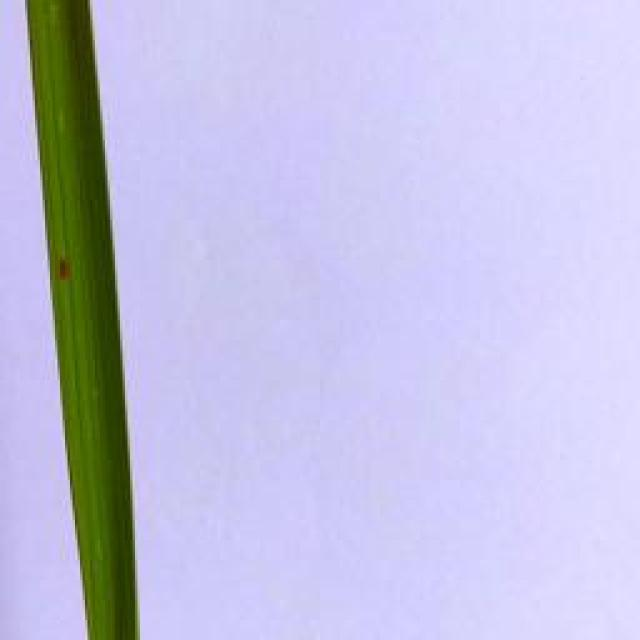Brown_Spot: (53, 251, 79, 290)
